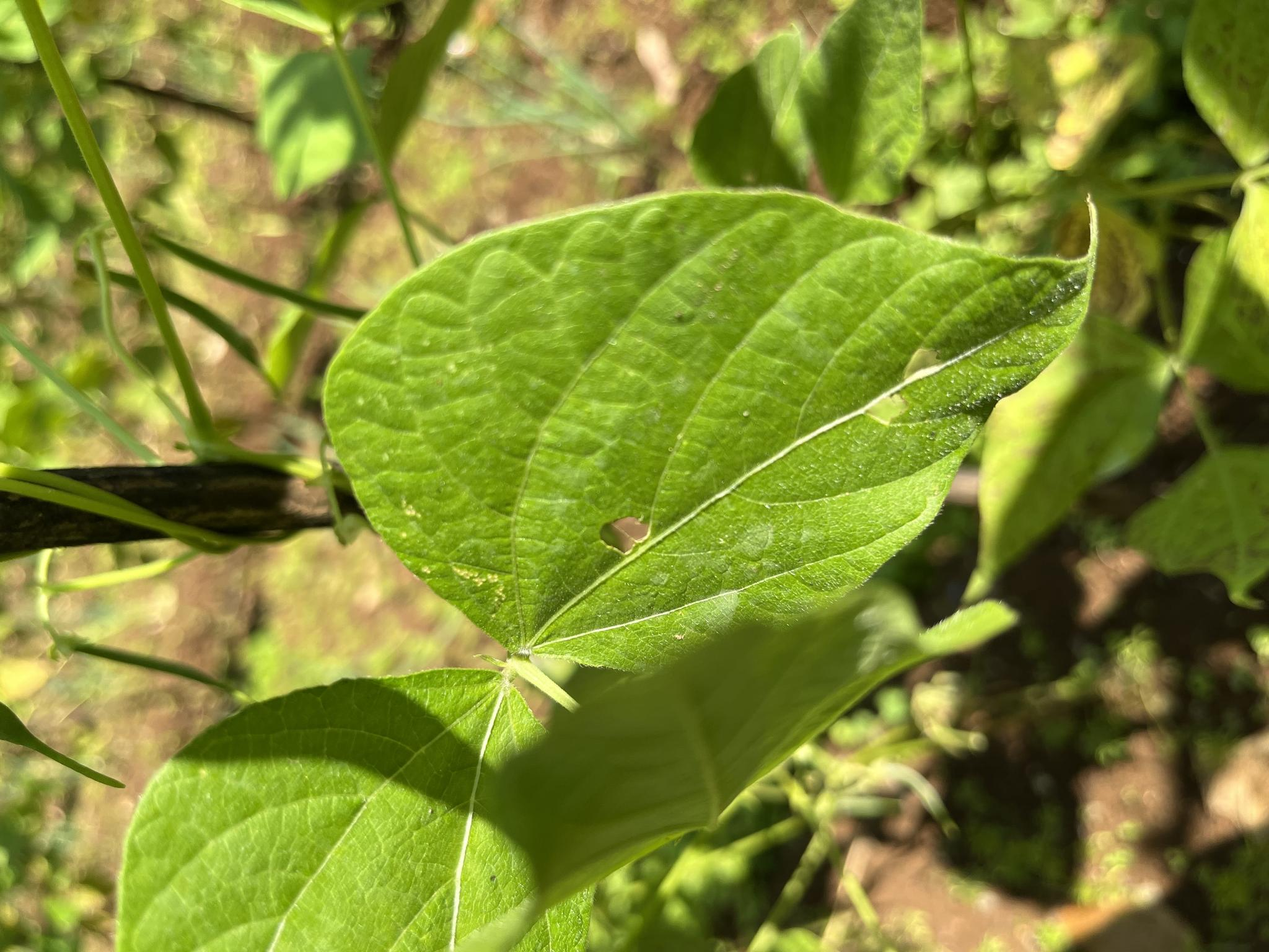mozaik: (602, 505, 650, 561)
